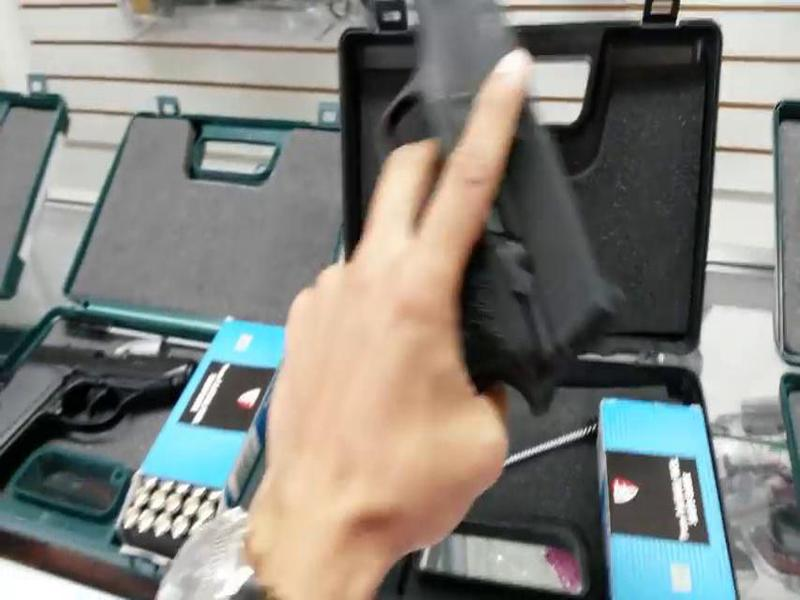Pistola: (298, 1, 607, 419)
